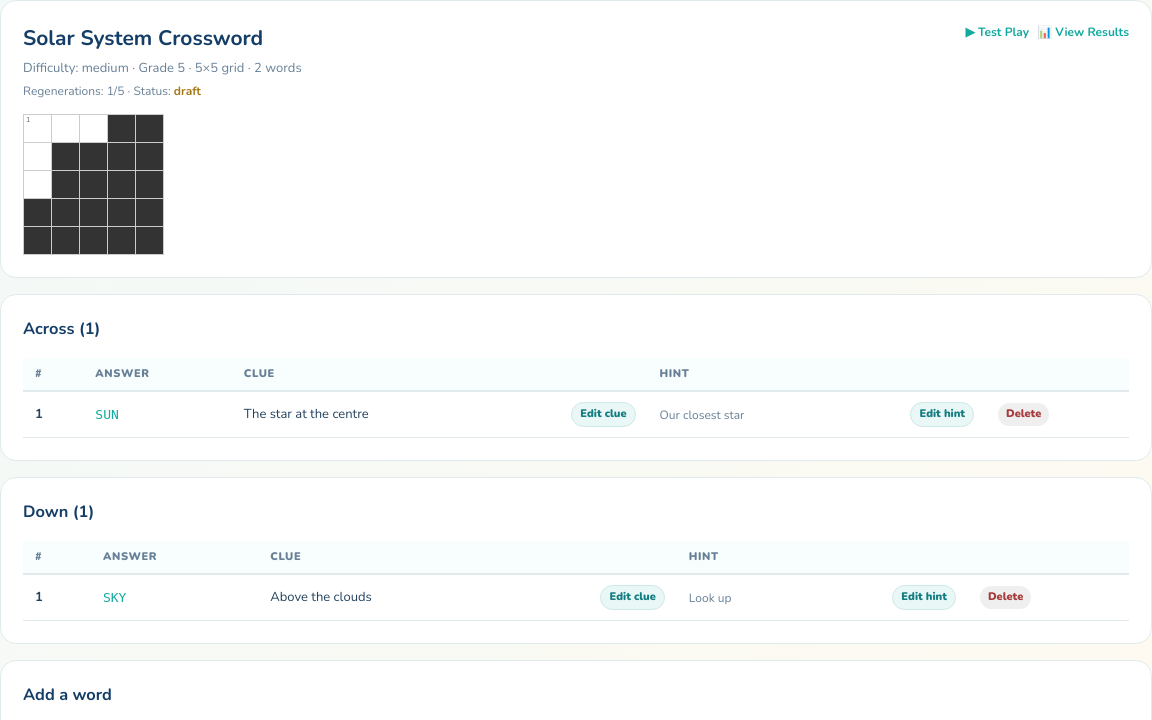
Test: clicking edit clue shows an inline input
Expected: the text "The star at the centre" is shown, left=244, top=405, right=369, bottom=423
Click the button "Edit clue" in the row of "The star at the centre": (603,415) left=571, top=402, right=636, bottom=427
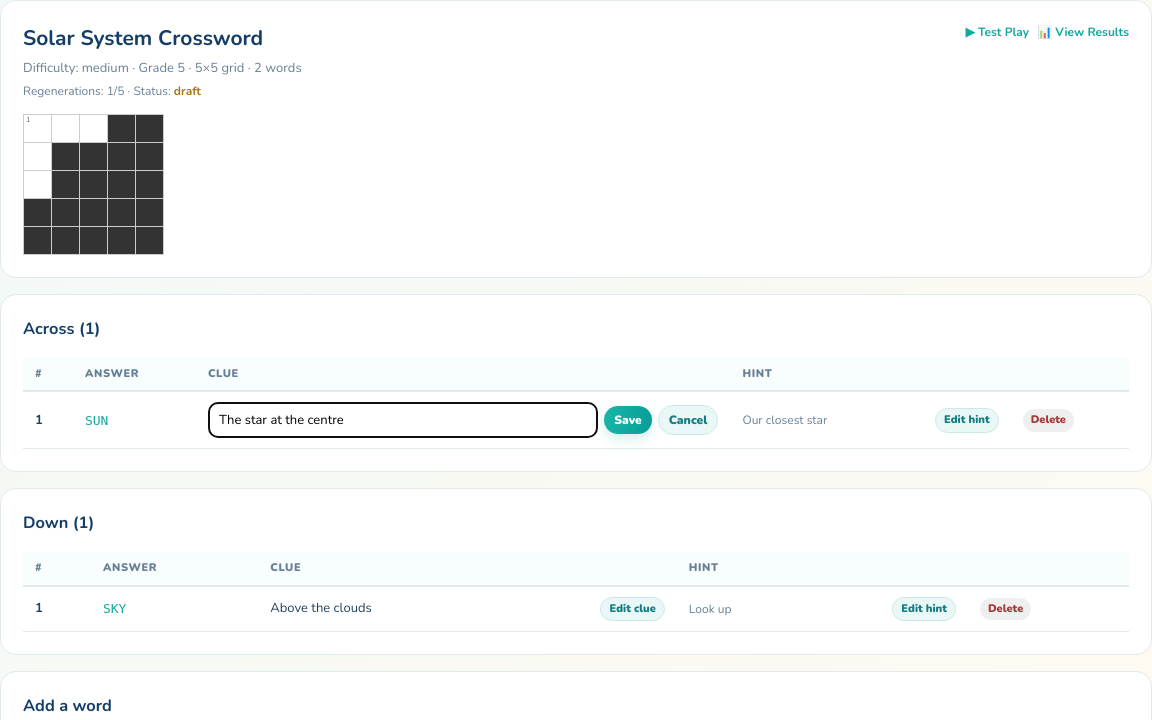
Now the field showing "The star at the centre" is shown, box left=208, top=402, right=598, bottom=438
